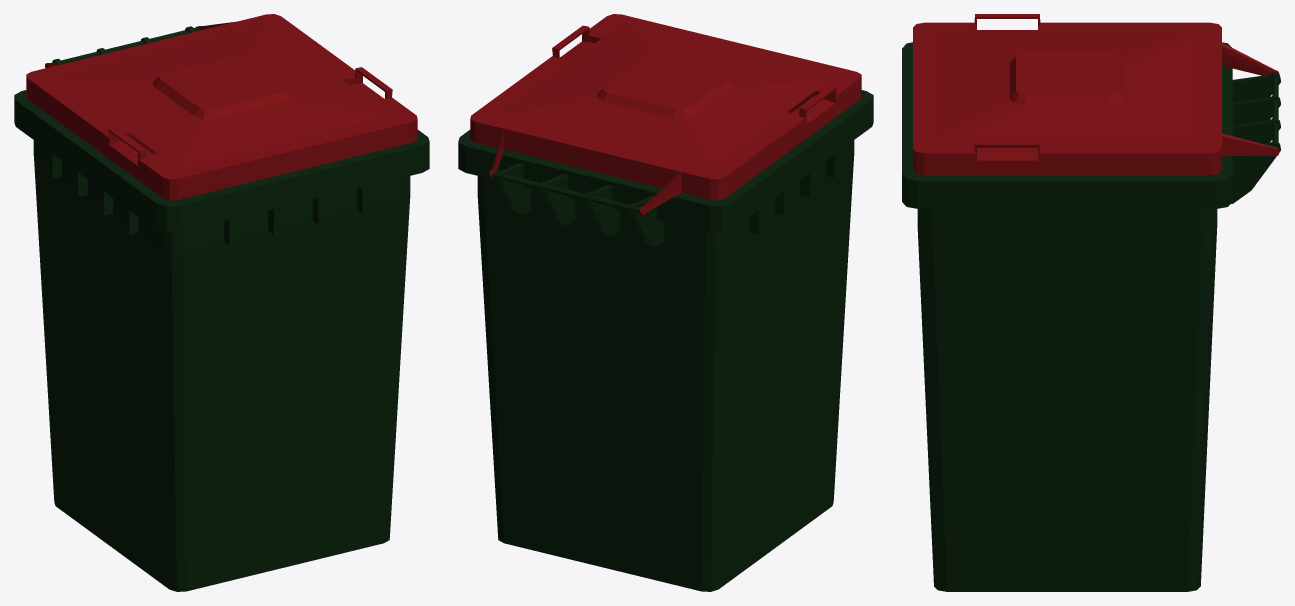
Rendered from bingltf.glb.
The picture shows the model from 3 angles, left to right: view 1: azimuth 30°, elevation 25°; view 2: azimuth 150°, elevation 25°; view 3: azimuth 270°, elevation 25°; orthographic projection. The views are drawn at different scales.
Parts seen in each view (by area): view 1: Plane, Plane.001; view 2: Plane, Plane.001; view 3: Plane, Plane.001.
Part boxes in pixels (x1,y1,x2,y2): Plane: (14, 26, 429, 591); Plane.001: (26, 14, 417, 200); Plane: (458, 90, 873, 591); Plane.001: (470, 14, 861, 215); Plane: (902, 42, 1280, 591); Plane.001: (913, 14, 1279, 175).
Size of the model in its own units: 2.21 by 3.4 by 2.53.
